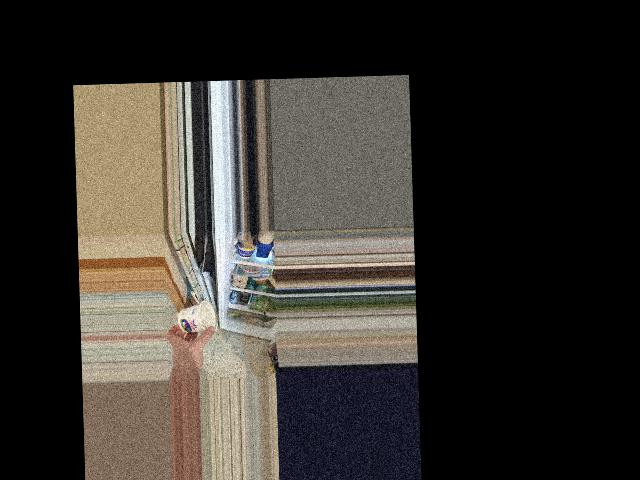cotage: (175, 301, 215, 336)
